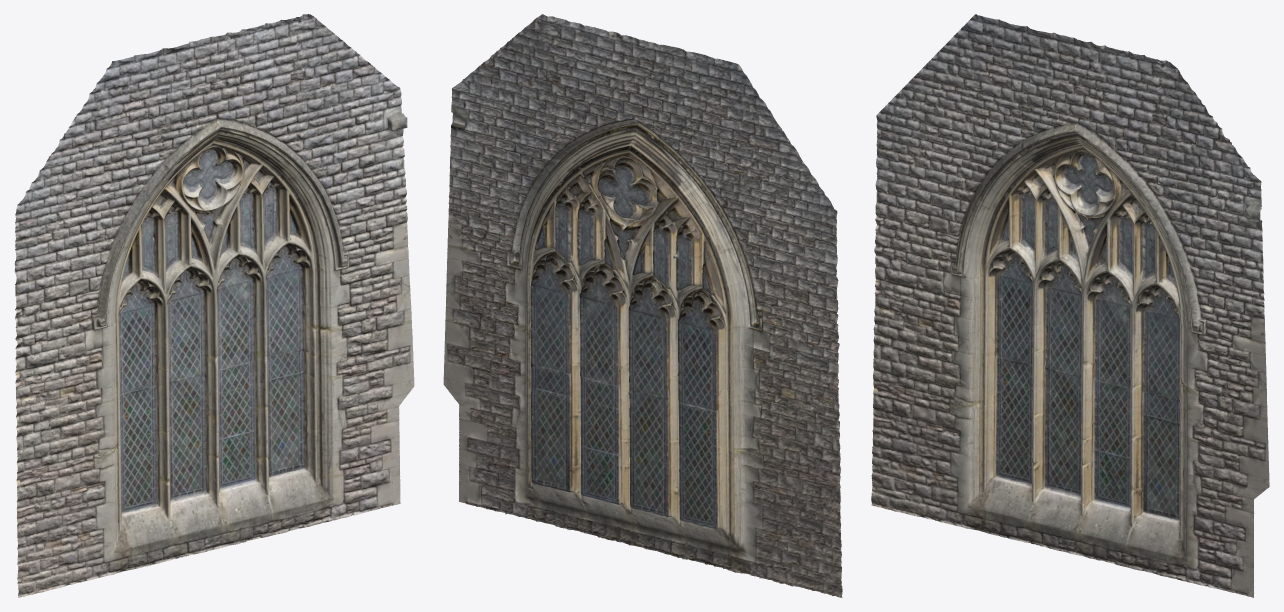
File: ancient_church_window.glb
3 renders of one model, left to right at view 1: azimuth 30°, elevation 25°; view 2: azimuth 150°, elevation 25°; view 3: azimuth 330°, elevation 25°, orthographic.
Parts seen in each view (by area): view 1: Object_2; view 2: Object_2; view 3: Object_2.
Part boxes in pixels (left/top/right/bottom): Object_2: left=14, top=14, right=414, bottom=597; Object_2: left=443, top=14, right=842, bottom=597; Object_2: left=871, top=14, right=1269, bottom=597.
Size of the model in its own units: 2973 by 3659 by 245.
Materials: 1 (1 with a texture image).
